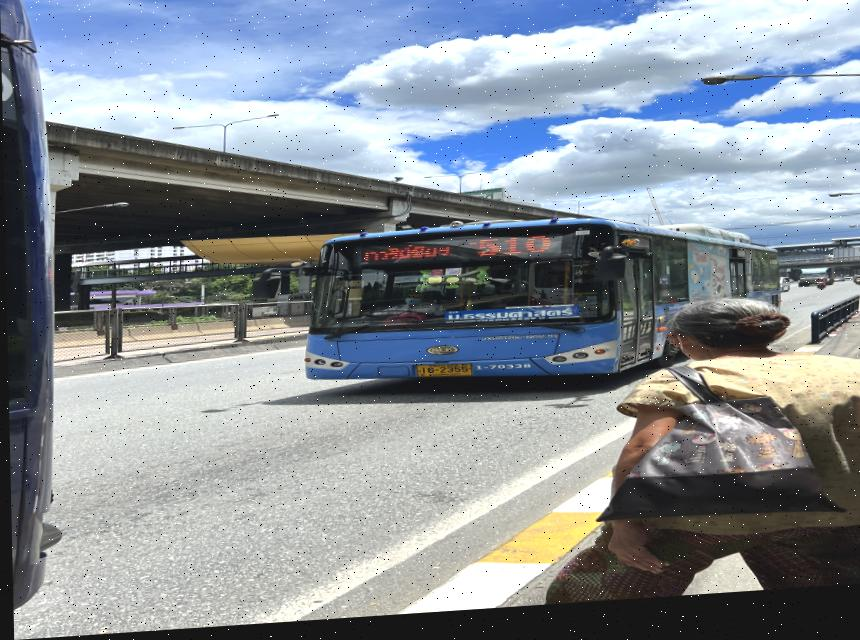BMTA-bus: (302, 227, 780, 389)
Bus Line Number: (468, 240, 557, 266)
Bus Side Number: (468, 367, 536, 381)
Destination Sign: (435, 309, 581, 337)
